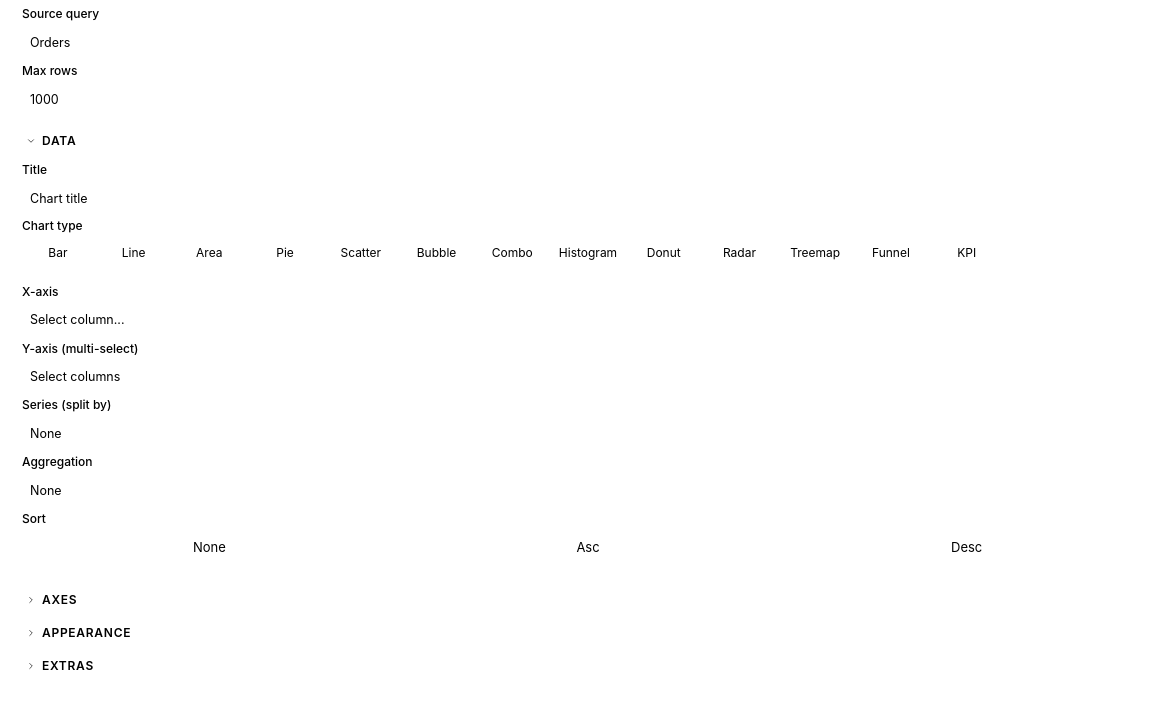
Test: ChartSection › exposes the bound query's columns to the X-axis picker after a run
Step 1. Click the button with test id "chart-editor-x-axis" → [77, 320], box [22,307,1154,335]
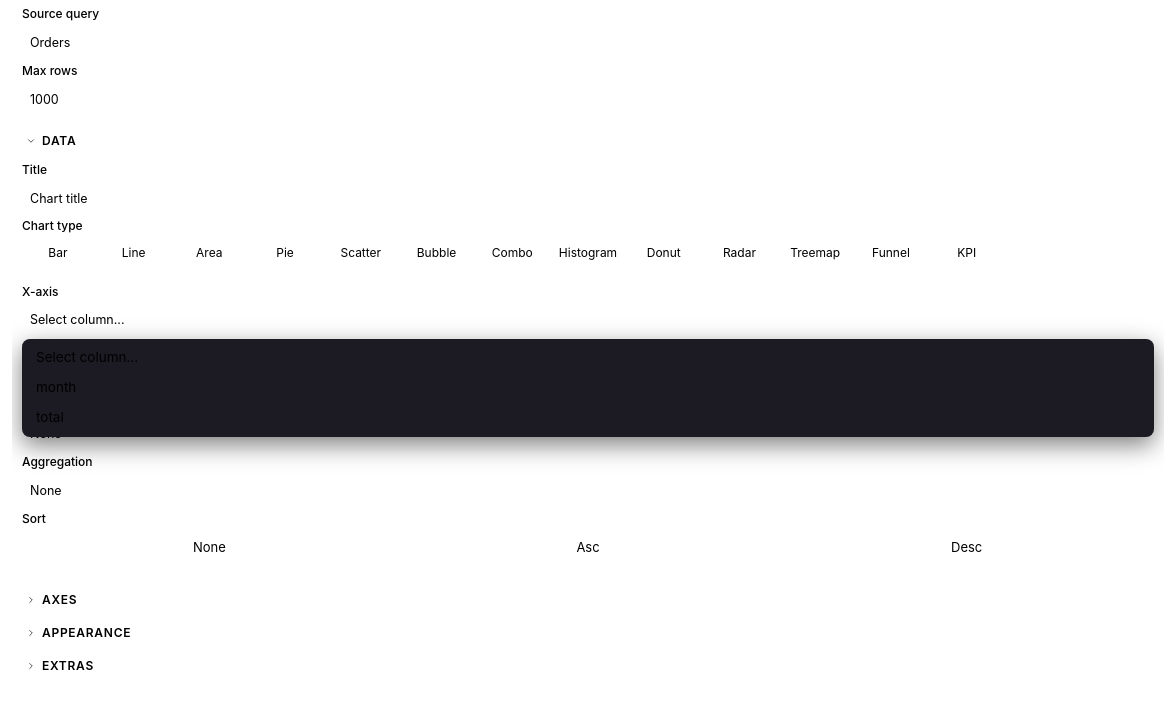
expect the option "month" is shown: met, box [36,379,76,395]
